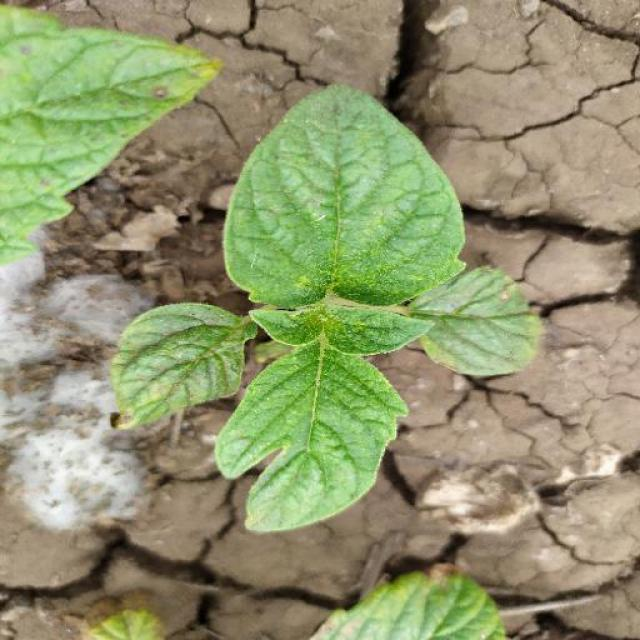crop: (105, 62, 573, 558)
